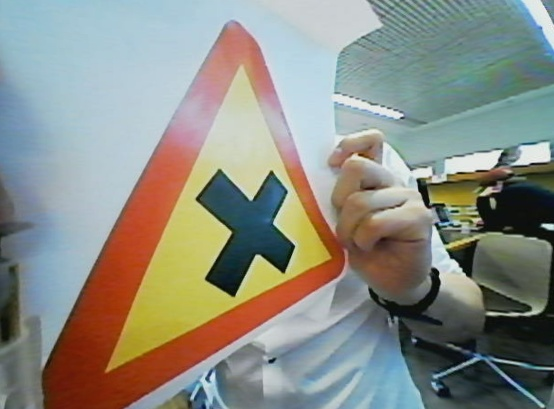junction: (33, 18, 335, 409)
